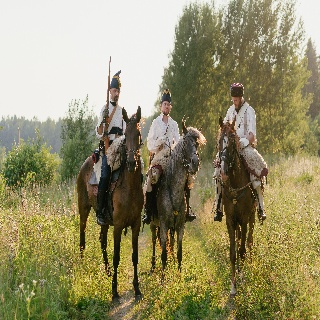rifle: (103, 55, 115, 153)
